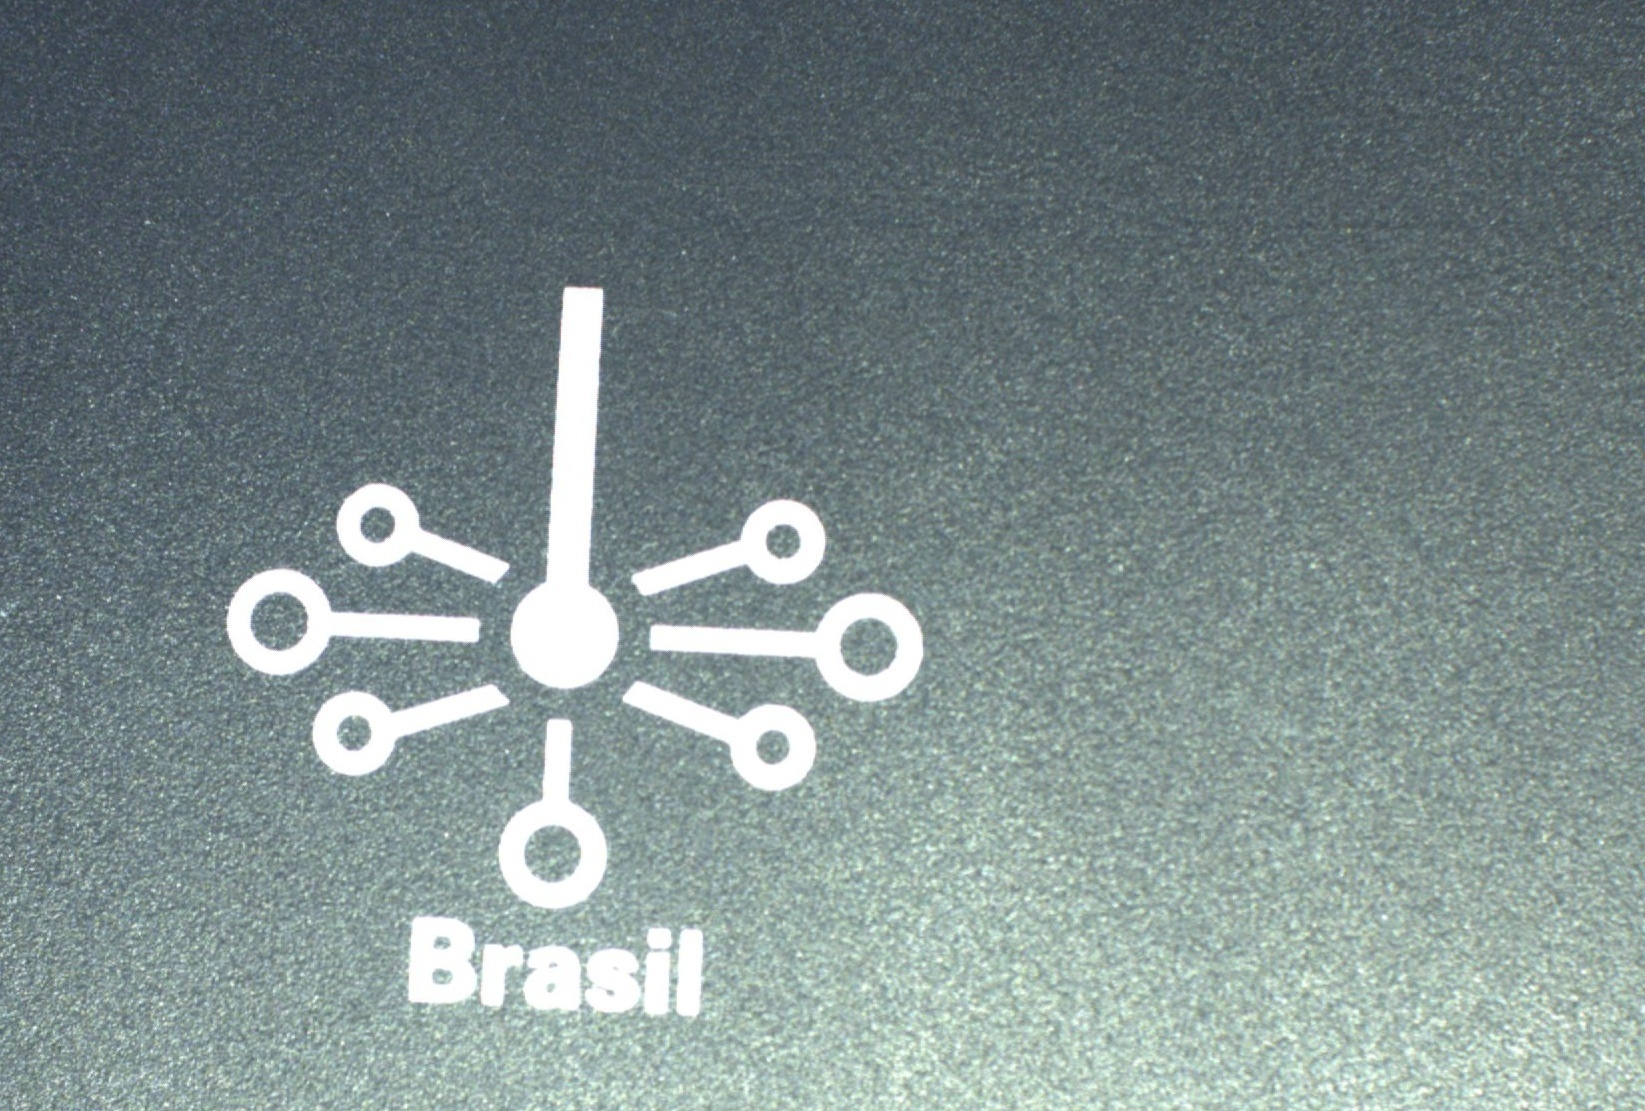BO_Brsail: (217, 281, 935, 1023)
